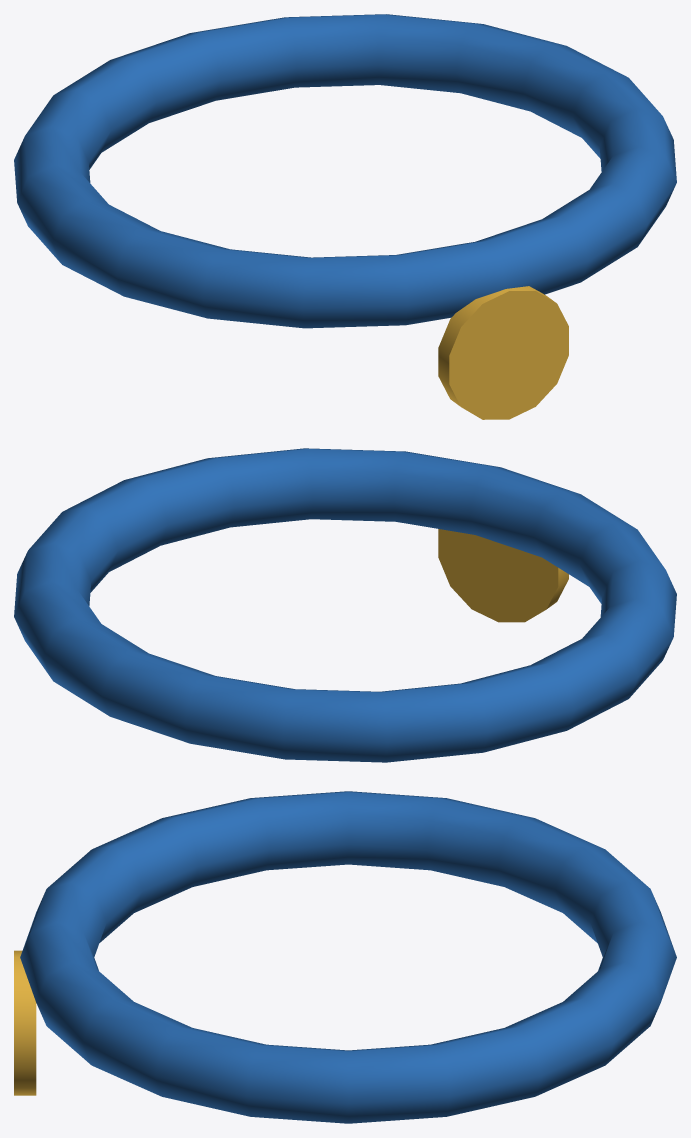
The model's file is acc-collar-tag.glb.
3 views of the same model, one above another, from view 1: azimuth 30°, elevation 25°; view 2: azimuth 150°, elevation 25°; view 3: azimuth 270°, elevation 25° (orthographic). The views are drawn at different scales.
Parts seen in each view (by area): view 1: acc-collar-tag; view 2: acc-collar-tag; view 3: acc-collar-tag.
Part boxes in pixels (box(x1,y1,x2,y2)): acc-collar-tag: box(14, 14, 676, 419); acc-collar-tag: box(14, 448, 676, 762); acc-collar-tag: box(14, 791, 676, 1123).
Bounding box in the file's own units: 1.24 × 0.33 × 1.19.
